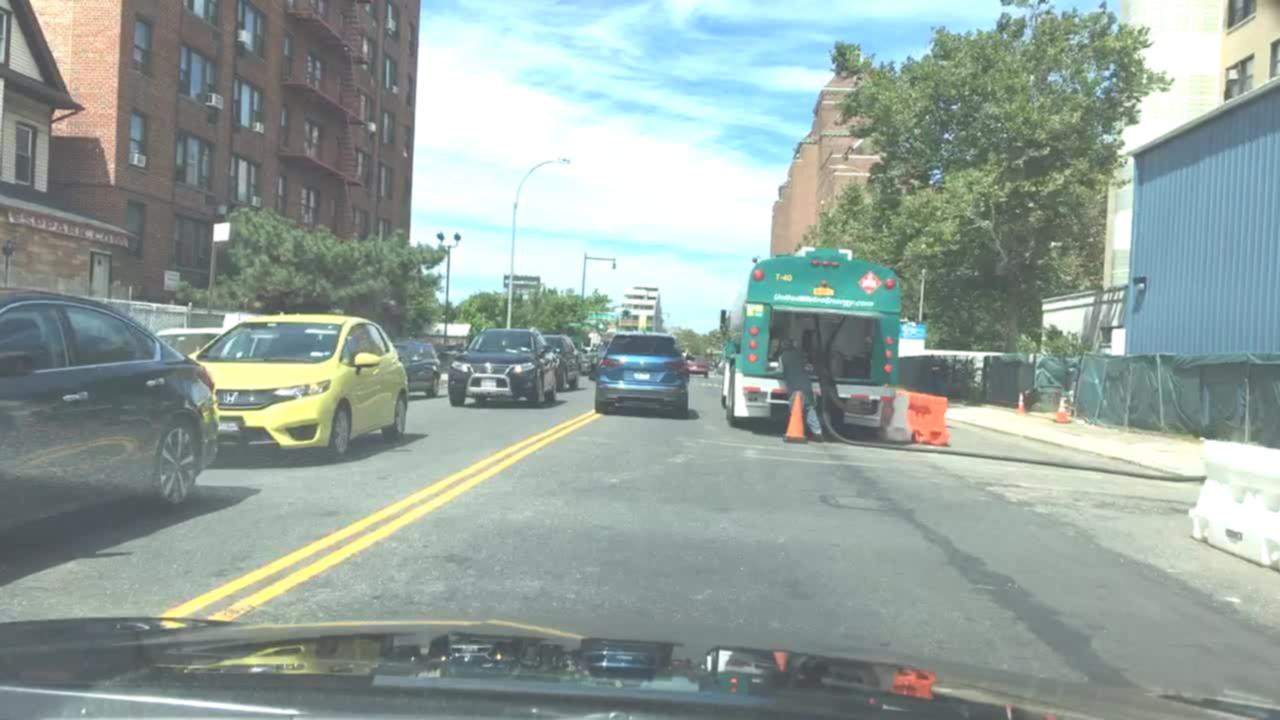Honda: (218, 388, 245, 411)
